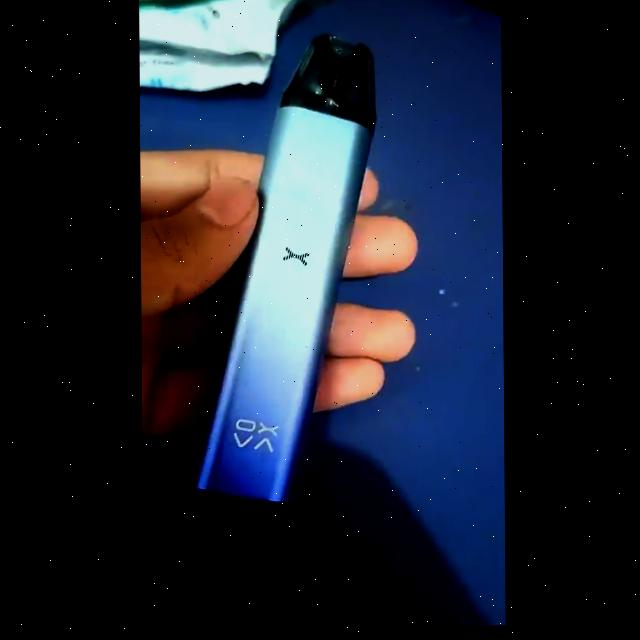vape: (191, 37, 382, 502)
